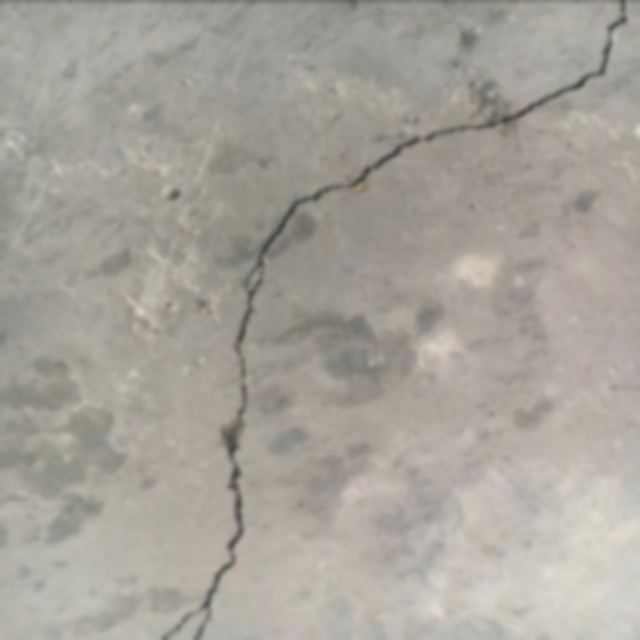SurfaceCrack: (21, 4, 509, 639)
